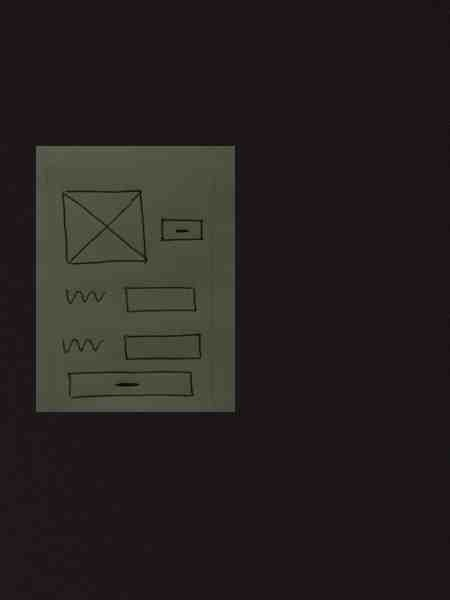button: (65, 369, 197, 403), (157, 210, 208, 246)
image: (58, 188, 152, 271)
text: (60, 333, 107, 362), (61, 284, 107, 311)
text_input: (122, 331, 205, 365), (122, 282, 201, 316)
